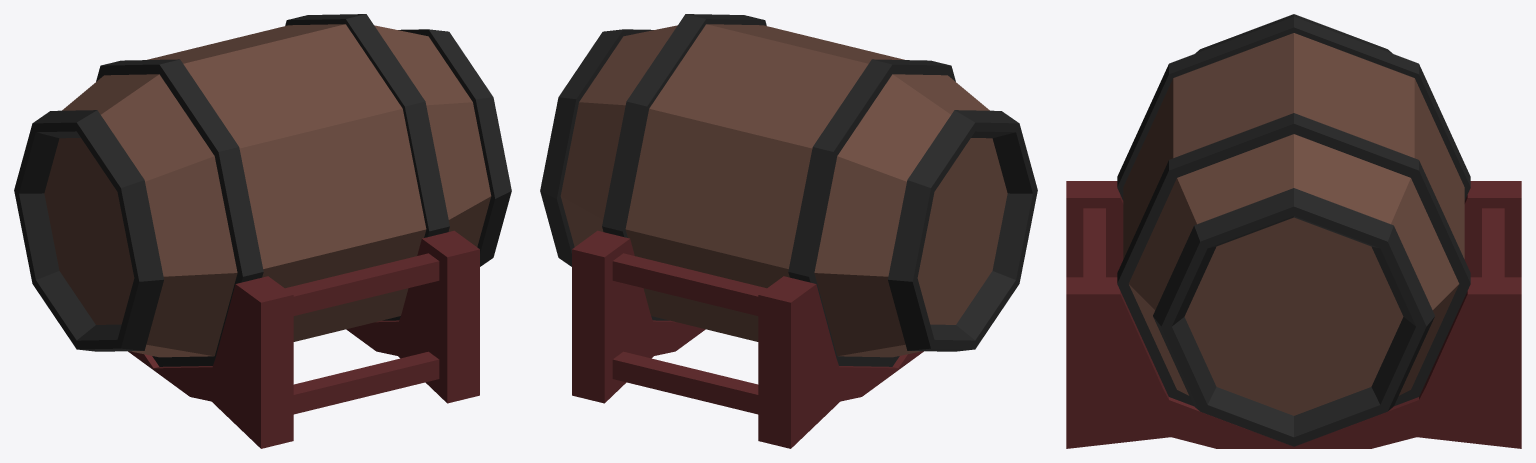
File: Barrel2.fbx
3 views of the same model, side by side, from view 1: azimuth 30°, elevation 25°; view 2: azimuth 150°, elevation 25°; view 3: azimuth 270°, elevation 25° (orthographic). The views are drawn at different scales.
Parts seen in each view (by area): view 1: Barrel2; view 2: Barrel2; view 3: Barrel2.
Boxes of the visible parts, x1=… form: Barrel2: x1=14, y1=14, x2=511, y2=448; Barrel2: x1=540, y1=14, x2=1037, y2=448; Barrel2: x1=1066, y1=14, x2=1521, y2=448.
Bounding box in the file's own units: 200 × 156 × 200.
